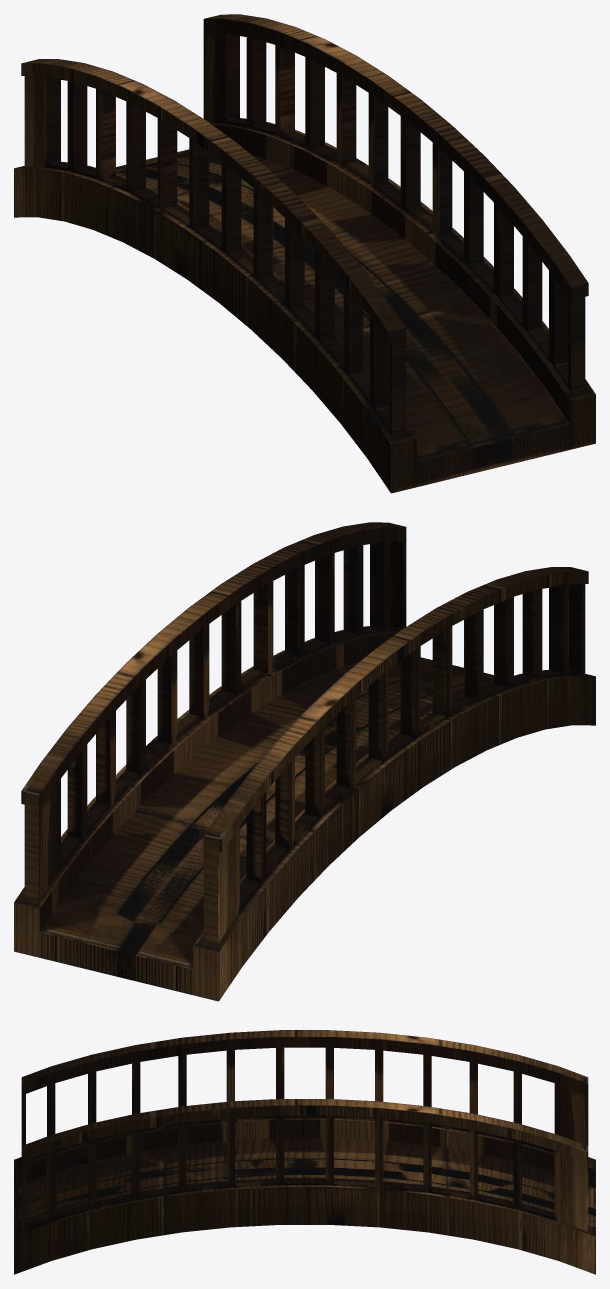
Rendered from PONTE.fbx.
The picture shows the model from 3 angles, top to bottom: view 1: azimuth 30°, elevation 25°; view 2: azimuth 150°, elevation 25°; view 3: azimuth 270°, elevation 25°; orthographic projection. The views are drawn at different scales.
Parts seen in each view (by area): view 1: Ponte; view 2: Ponte; view 3: Ponte.
Boxes of the visible parts, box(x1,y1,x2,y2) form: Ponte: box(14, 14, 595, 493); Ponte: box(14, 522, 595, 1001); Ponte: box(14, 1030, 595, 1274).
Size of the model in its own units: 139 by 141 by 442.
